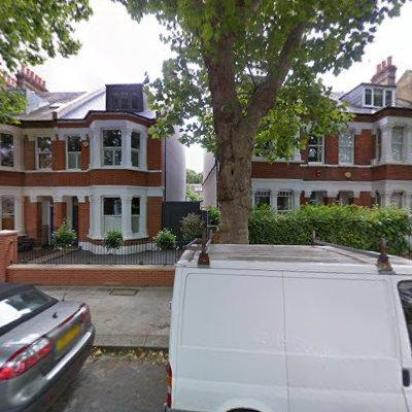stationary-car-onstreet: (0, 282, 98, 412)
stationary-light-truck-onstreet: (162, 226, 412, 412)
